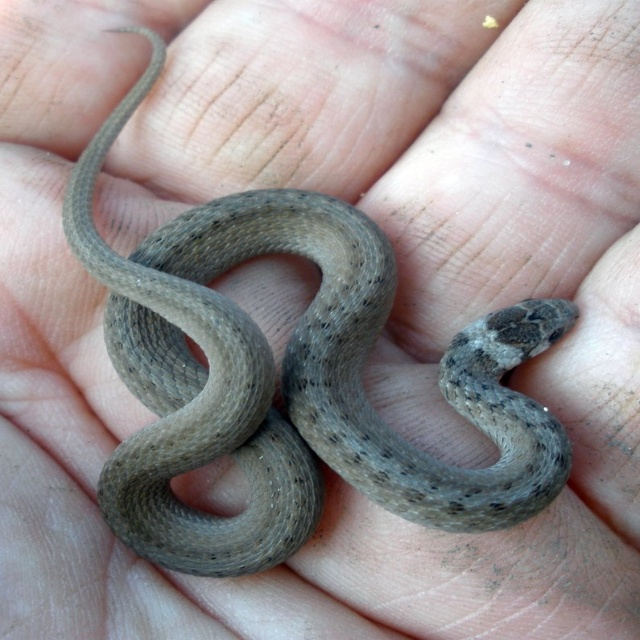Snake: (61, 26, 580, 578)
